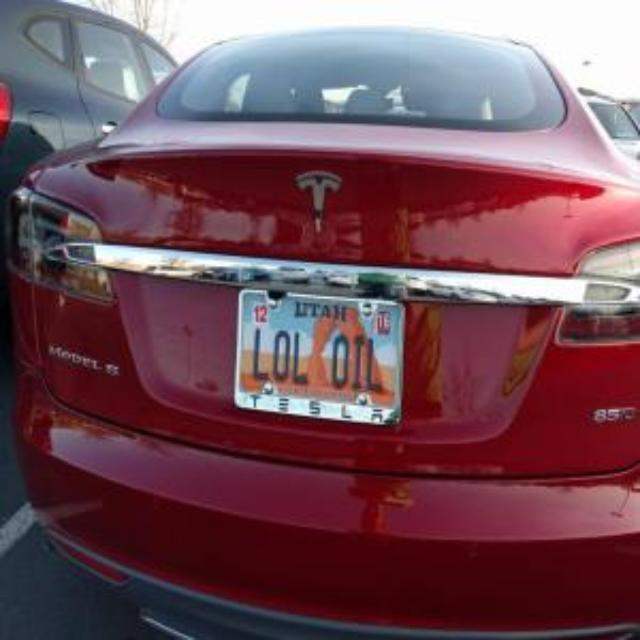License Plate: (235, 289, 404, 424)
